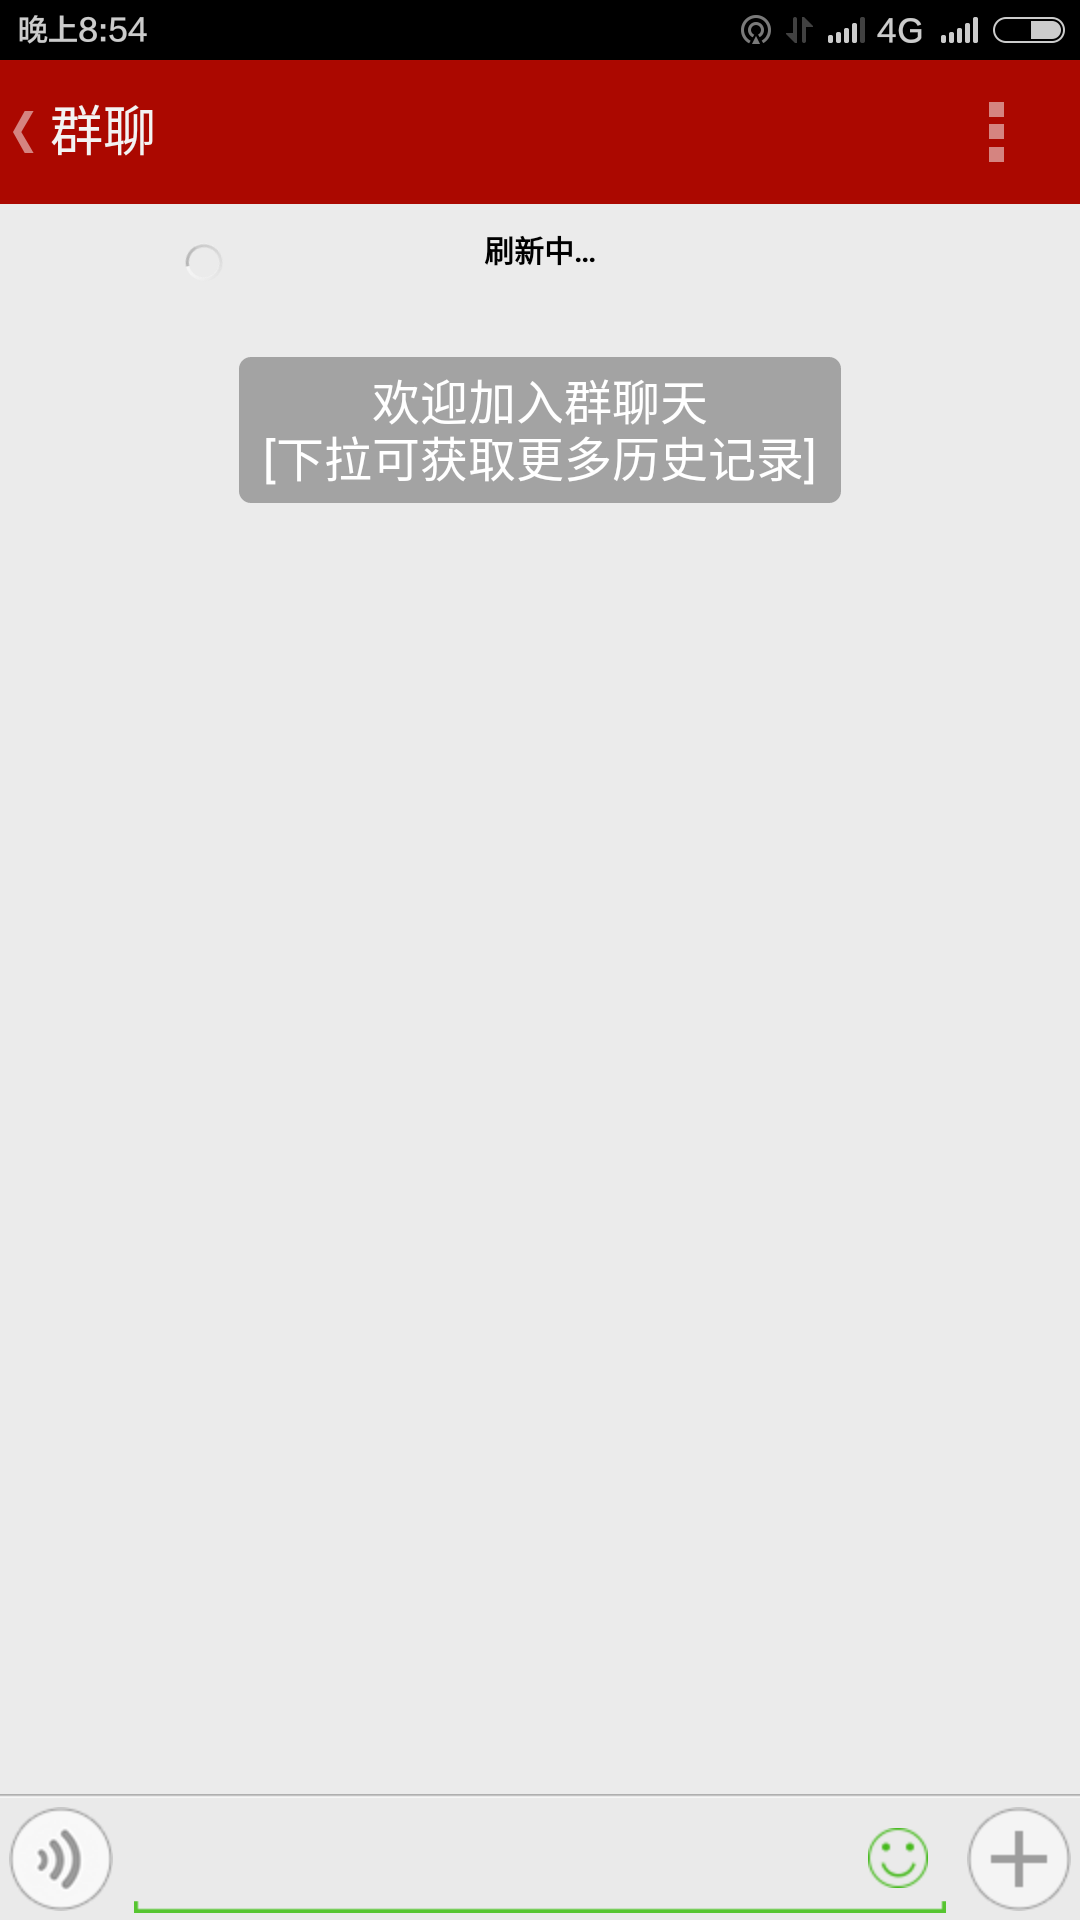alert: (202, 339, 866, 518)
